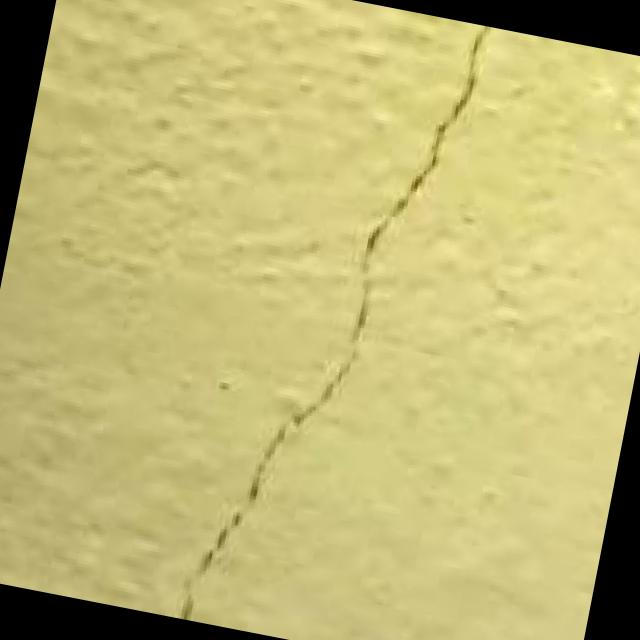crack: (99, 0, 538, 640)
